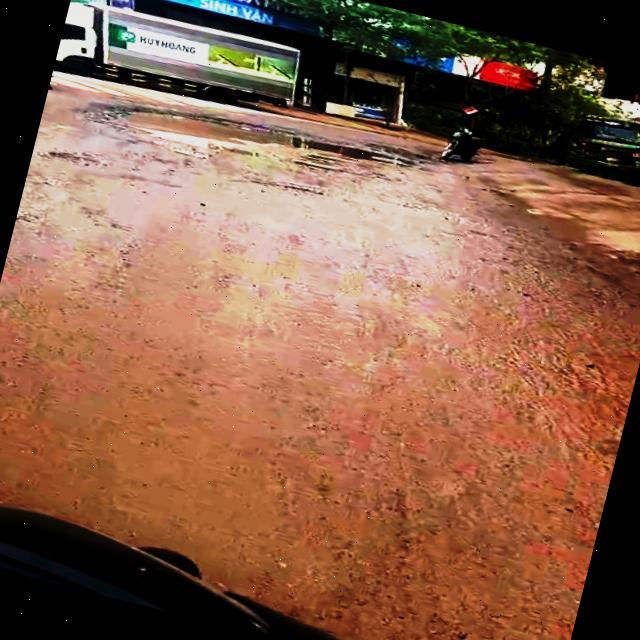pothole: (109, 85, 418, 202)
